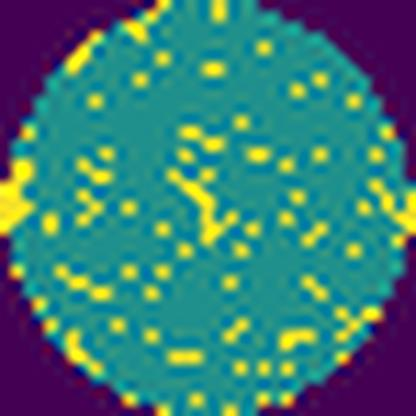Edge-Loc: (370, 170, 416, 243), (0, 156, 37, 238)
